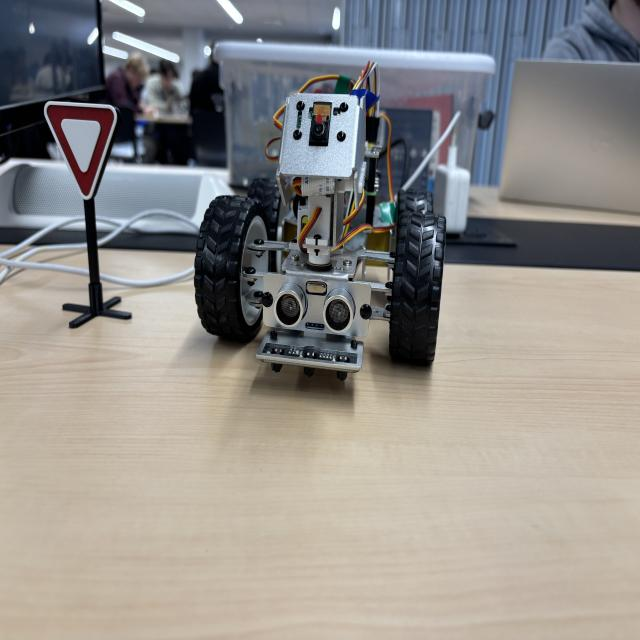sign_yield: (42, 101, 119, 201)
vehicle: (194, 62, 448, 383)
